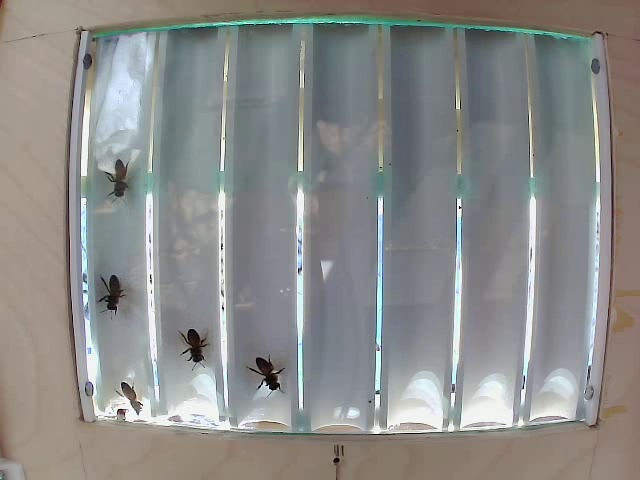bee: (165, 320, 219, 384), (245, 349, 294, 394), (100, 272, 133, 324), (111, 155, 138, 208)
